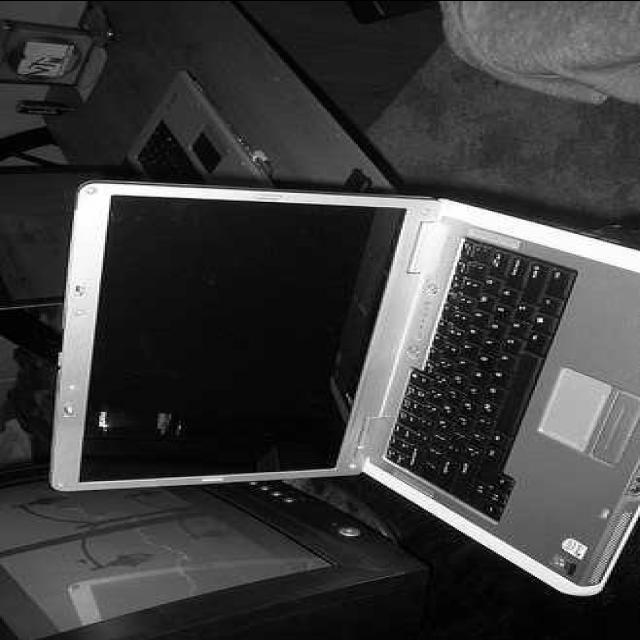laptop: (54, 168, 640, 600)
